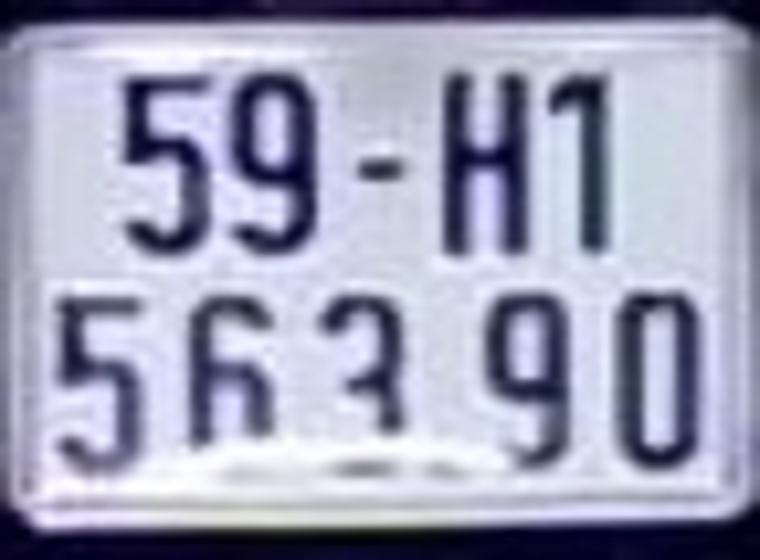-: (354, 156, 412, 195)
0: (614, 282, 702, 475)
1: (548, 70, 628, 262)
3: (314, 289, 408, 481)
5: (112, 71, 217, 272), (47, 284, 150, 482)
6: (187, 290, 278, 470)
9: (225, 64, 323, 264), (484, 282, 576, 485)
H: (438, 66, 540, 254)
